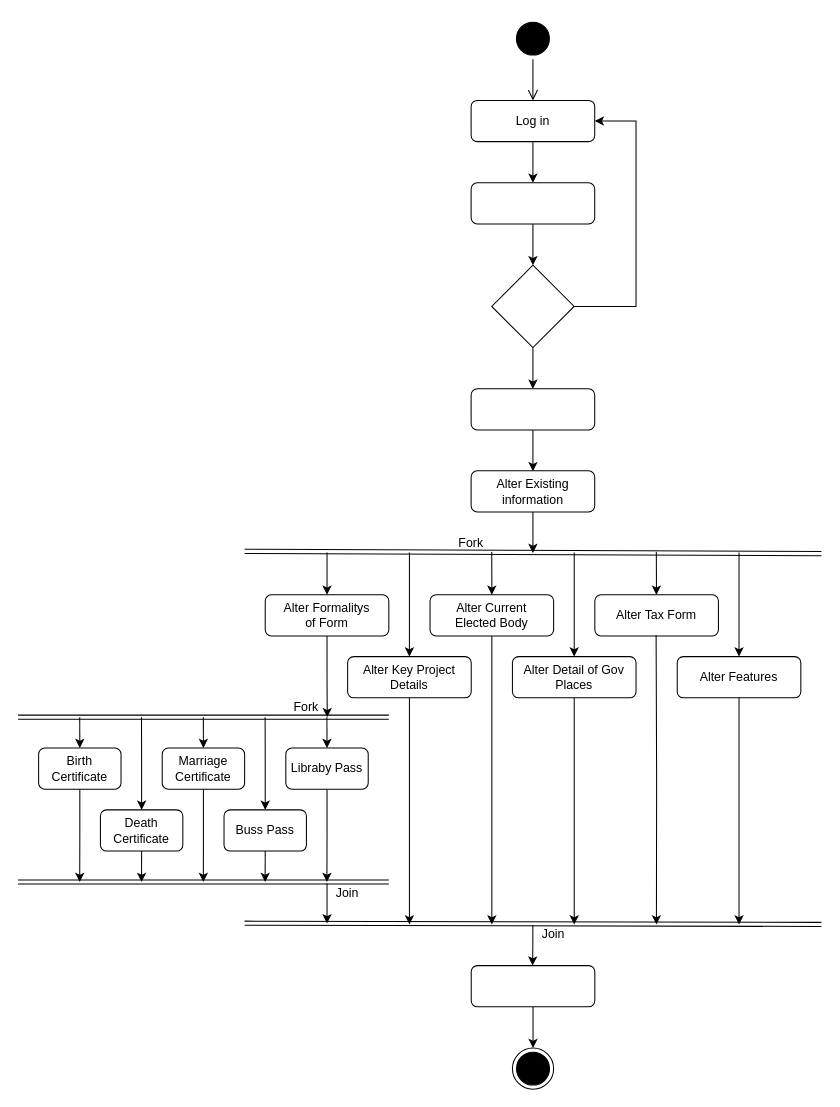
The diagram is 840 pixels wide and 1107 high, and some of its shapes have lost their labels. Each missing label, with the box of its shape:
Authentication: (470, 182, 595, 224)
Check: (491, 264, 574, 348)
Log Out: (470, 965, 595, 1007)
View Home Page: (470, 388, 595, 430)
